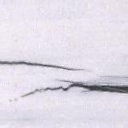crackTip: (1, 60, 128, 102)
